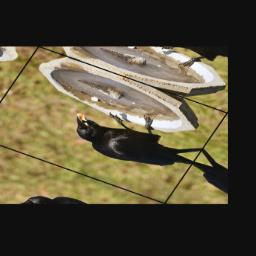Crow: (59, 95, 210, 182)
